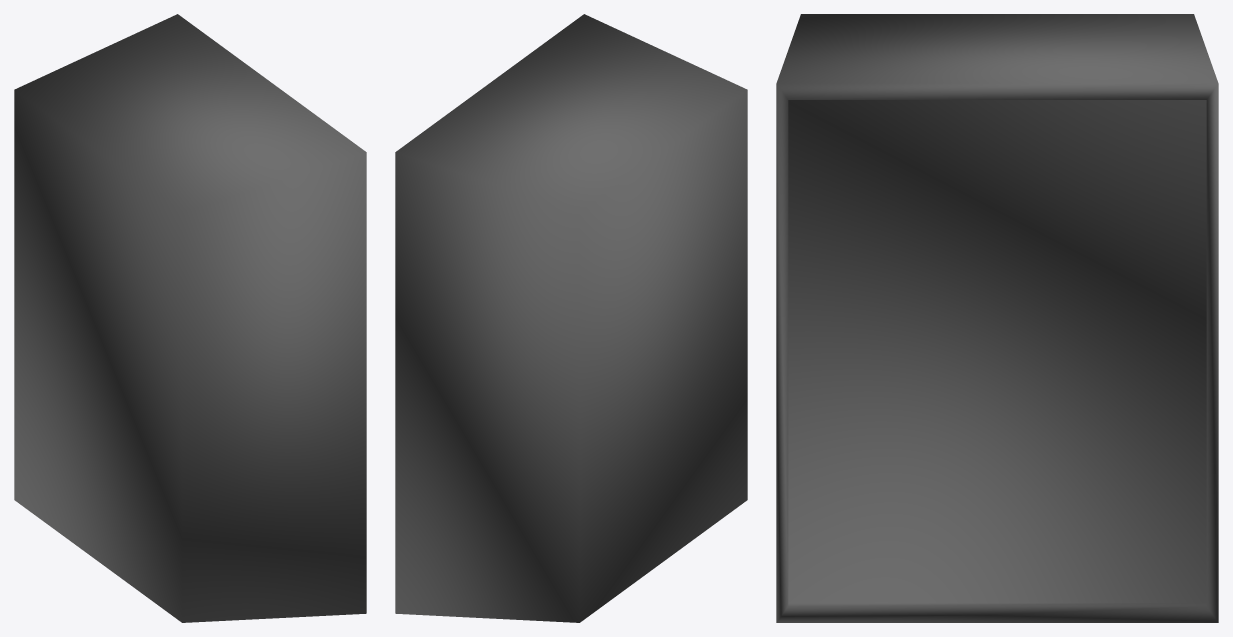
Rendered from Display.fbx.
The picture shows the model from 3 angles, left to right: view 1: azimuth 30°, elevation 25°; view 2: azimuth 150°, elevation 25°; view 3: azimuth 270°, elevation 25°; orthographic projection. The views are drawn at different scales.
Parts seen in each view (by area): view 1: Display; view 2: Display; view 3: Display.
Part boxes in pixels (bbox=[...]): Display: bbox=[14, 14, 366, 622]; Display: bbox=[395, 14, 747, 622]; Display: bbox=[776, 14, 1218, 622].
Bounding box in the file's own units: 2.98 × 7.55 × 5.61.
